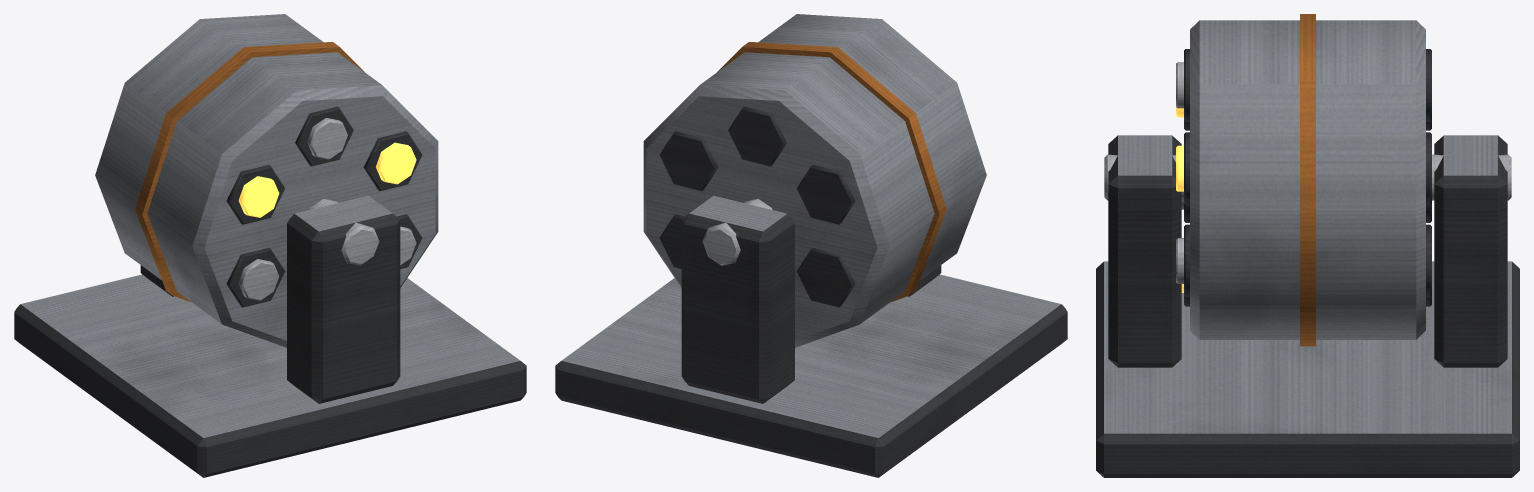
Rendered from R4X_ReloadBooster_LOD1.glb.
3 views of the same model, side by side, from view 1: azimuth 30°, elevation 25°; view 2: azimuth 150°, elevation 25°; view 3: azimuth 270°, elevation 25° (orthographic). The views are drawn at different scales.
Parts seen in each view (by area): view 1: R4X_ReloadBooster_LOD1; view 2: R4X_ReloadBooster_LOD1; view 3: R4X_ReloadBooster_LOD1.
Boxes of the visible parts, x1,y1,x2,y2 form: R4X_ReloadBooster_LOD1: (14,14,526,477); R4X_ReloadBooster_LOD1: (555,14,1067,477); R4X_ReloadBooster_LOD1: (1096,14,1519,477).
Bounding box in the file's own units: 0.52 × 0.4948 × 0.52.
Materials: 5 (4 with a texture image).
